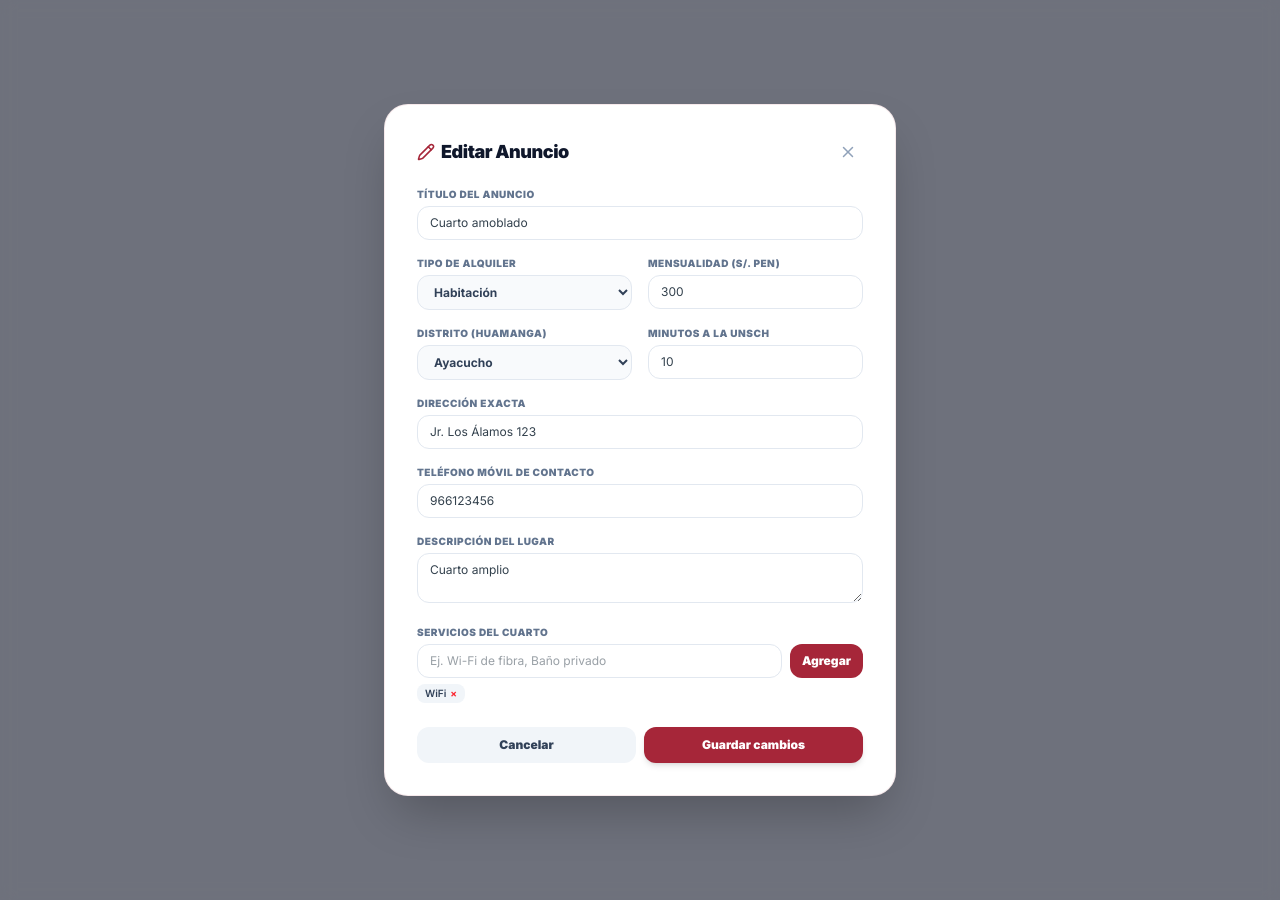
Test: EditListingModal › muestra la advertencia de revision al cambiar el precio de un anuncio aprobado
Replace the text in the number field showing "300" below "Mensualidad (S/. PEN)" with "350" at (756, 292), box [648, 275, 863, 309]
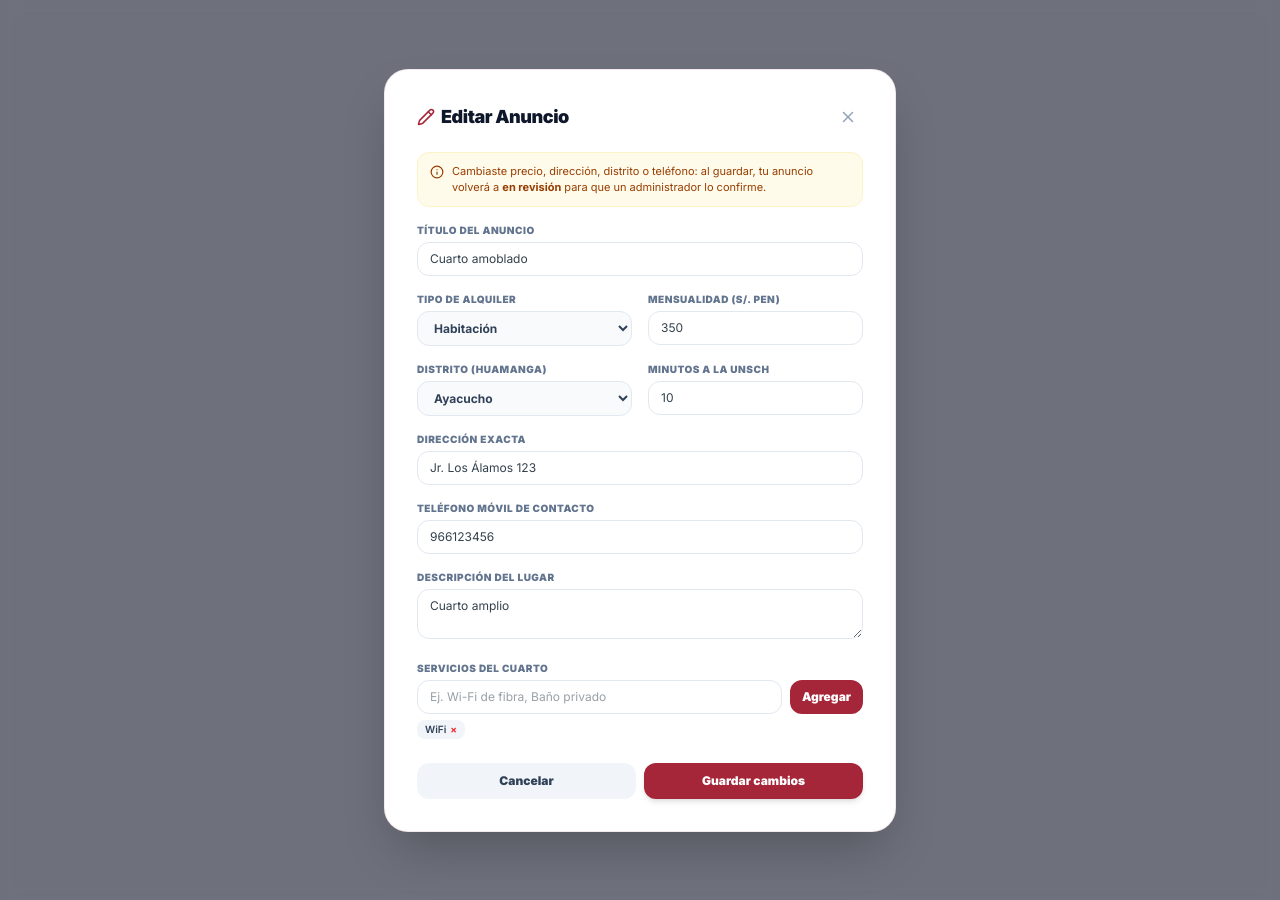
Check: the text "volverá a" is shown, box [452, 164, 813, 194]
